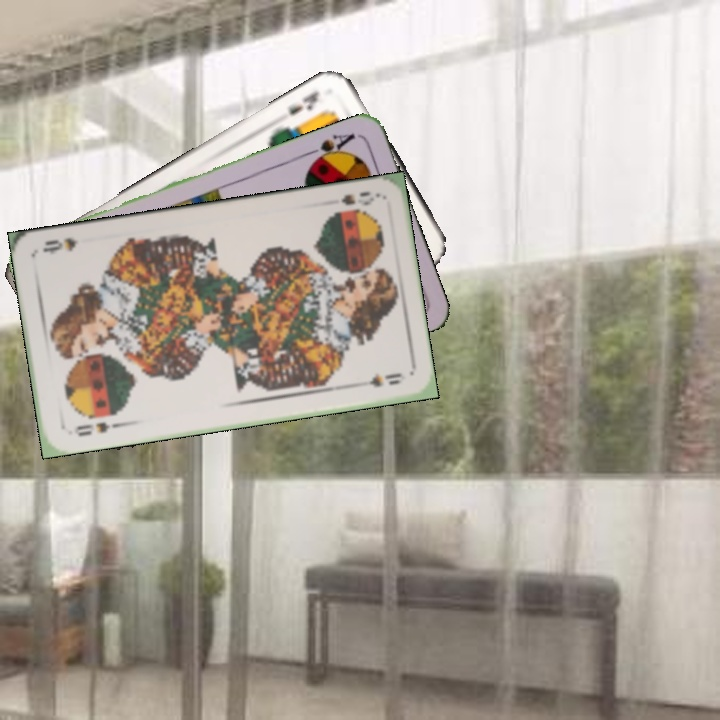EK: (284, 87, 323, 118)
SA: (302, 129, 358, 168)
SO: (72, 417, 123, 439), (337, 187, 381, 208)
